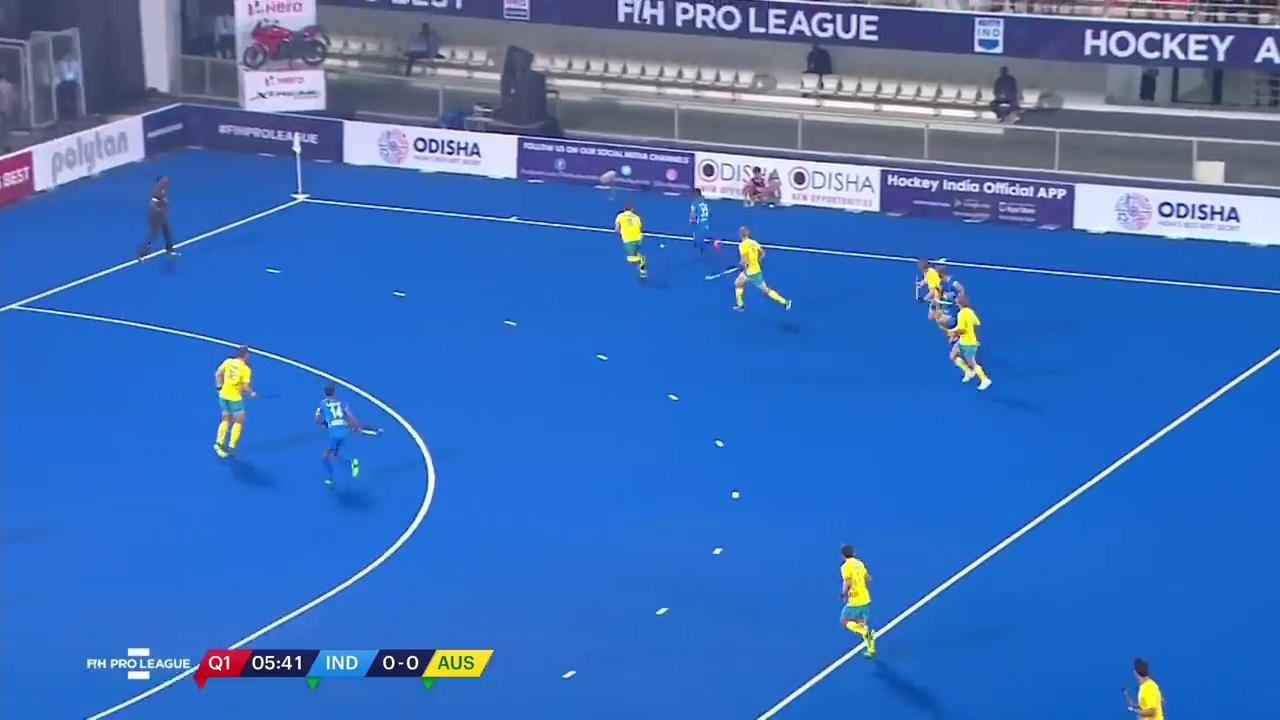ball: (651, 237, 672, 254)
